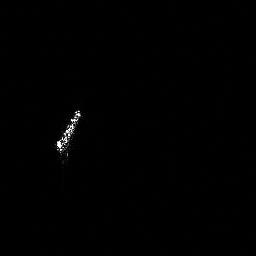ship: (51, 106, 85, 164)
